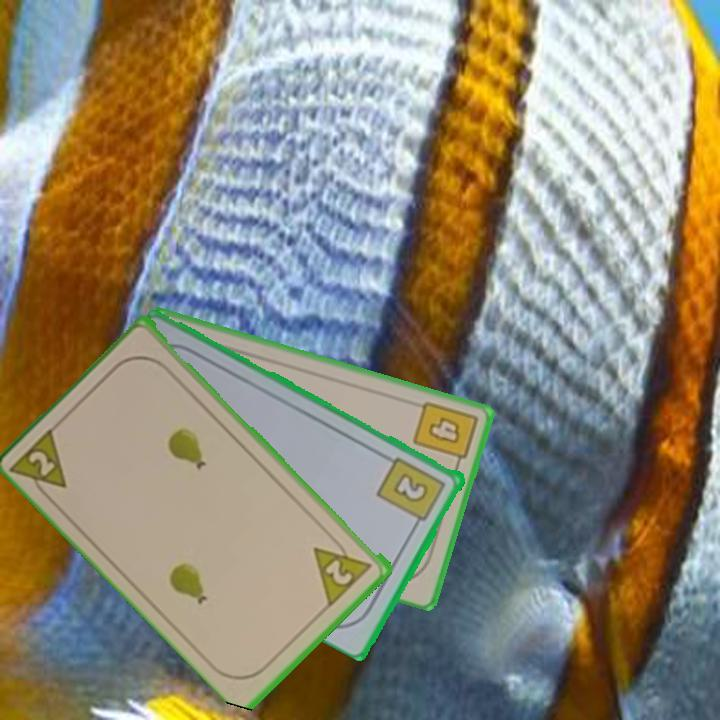2b: (374, 453, 449, 531)
2p: (8, 422, 71, 506), (322, 556, 356, 589)
4b: (409, 397, 481, 472)
